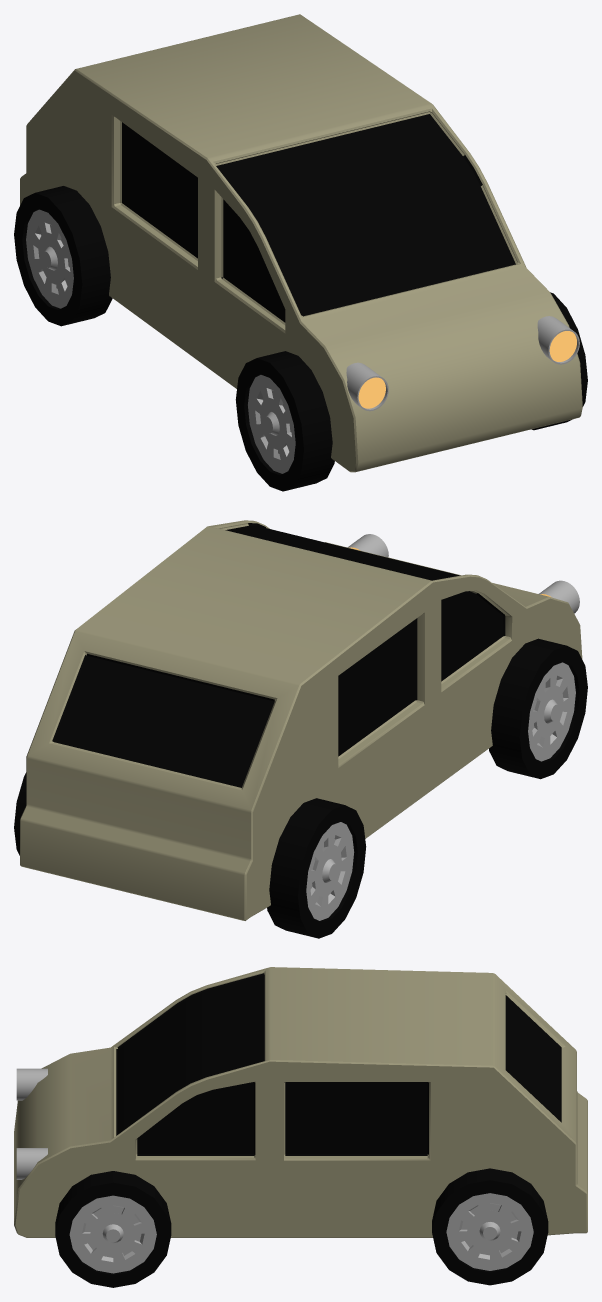
Rendered from hatchback.glb.
The picture shows the model from 3 angles, top to bottom: view 1: azimuth 30°, elevation 25°; view 2: azimuth 150°, elevation 25°; view 3: azimuth 270°, elevation 25°; orthographic projection. The views are drawn at different scales.
Visible parts, largest first — view 1: hatchback, hatchbacktires-front, hatchbacktires-back, hatchback-headlights; view 2: hatchback, hatchbacktires-back, hatchbacktires-front, hatchback-headlights; view 3: hatchback, hatchbacktires-front, hatchbacktires-back, hatchback-headlights.
Part boxes in pixels (x1,y1,x2,y2): hatchback: (20,14,582,472); hatchbacktires-front: (235,292,587,491); hatchbacktires-back: (14,186,112,326); hatchback-headlights: (346,316,579,411); hatchback: (20,520,582,920); hatchbacktires-back: (14,772,366,938); hatchbacktires-front: (489,638,587,779); hatchback-headlights: (347,534,579,613); hatchback: (14,967,587,1237); hatchbacktires-front: (55,1171,171,1287); hatchbacktires-back: (432,1168,548,1285); hatchback-headlights: (16,1068,47,1179).
Size of the model in its own units: 3.65 by 3.09 by 7.45.
